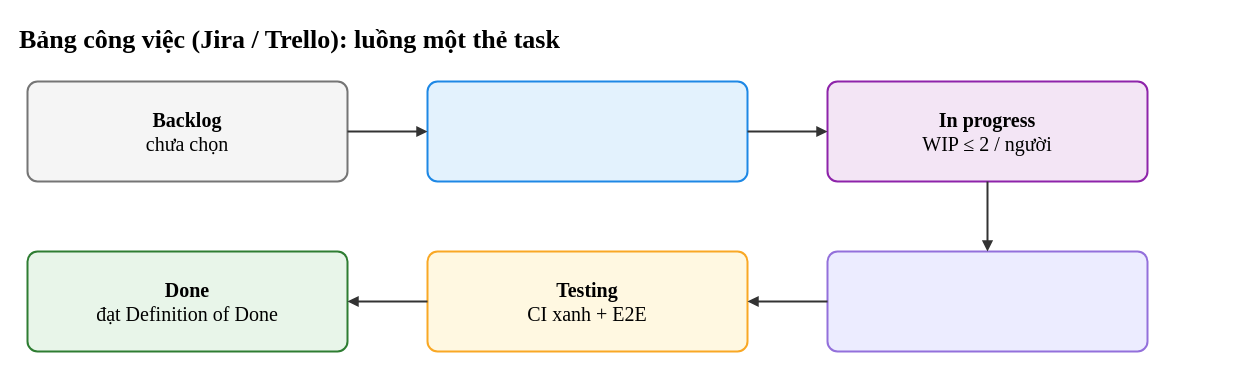
The diagram is 1234 pixels wide and 369 high, and some of its shapes have lost their labels. The centre of each missing label's shape, as x and y in pixels:
"Code review Pull Request, 1 người duyệt" belongs at point 987,301.
"To do thuộc sprint này" belongs at point 587,131.
